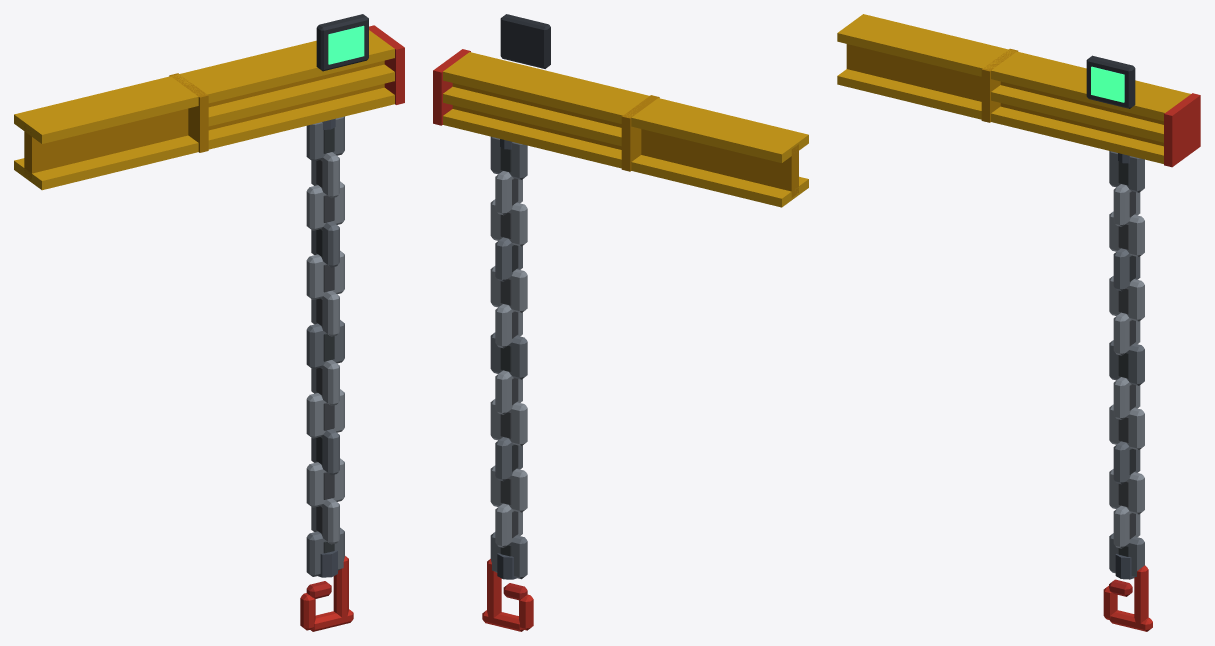
File: chain.glb
3 views of the same model, side by side, from view 1: azimuth 30°, elevation 25°; view 2: azimuth 150°, elevation 25°; view 3: azimuth 330°, elevation 25° (orthographic). The views are drawn at different scales.
Visible parts, largest first — view 1: Beam, Links, Hook; view 2: Beam, Links, Hook; view 3: Beam, Links, Hook.
Boxes of the visible parts, left/top/right/bottom form: Beam: left=14, top=14, right=404, bottom=190; Links: left=306, top=116, right=344, bottom=576; Hook: left=300, top=550, right=353, bottom=631; Beam: left=433, top=14, right=808, bottom=207; Links: left=490, top=136, right=527, bottom=579; Hook: left=482, top=553, right=533, bottom=631; Beam: left=837, top=14, right=1200, bottom=167; Links: left=1109, top=151, right=1144, bottom=577; Hook: left=1103, top=554, right=1152, bottom=631.
Size of the model in its own units: 3.28 by 5.36 by 0.5698.
